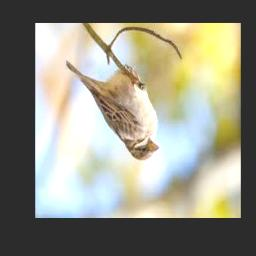Sparrow: (66, 59, 160, 162)
